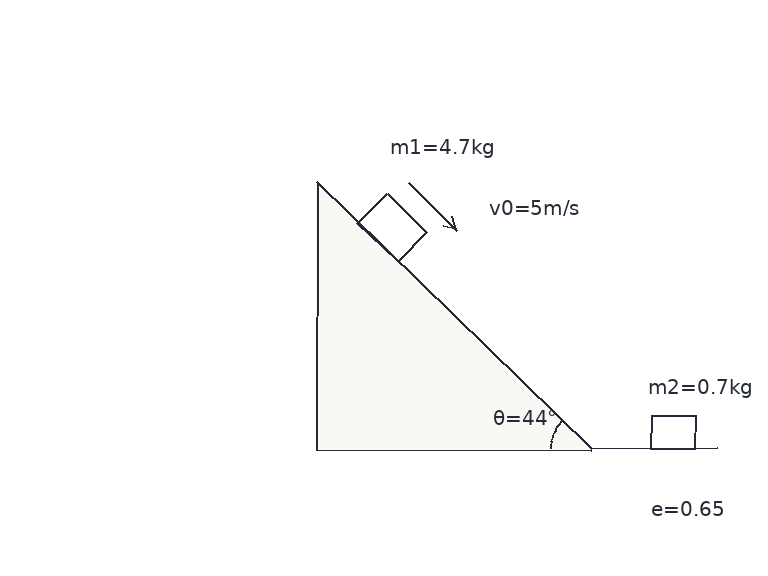block: (356, 191, 428, 263), (649, 414, 697, 450)
ramp: (314, 181, 593, 450)
